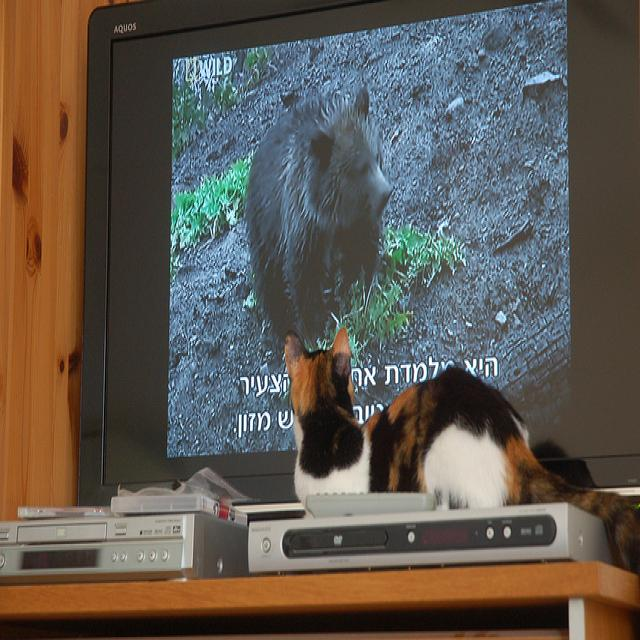Bear: (249, 96, 392, 341)
